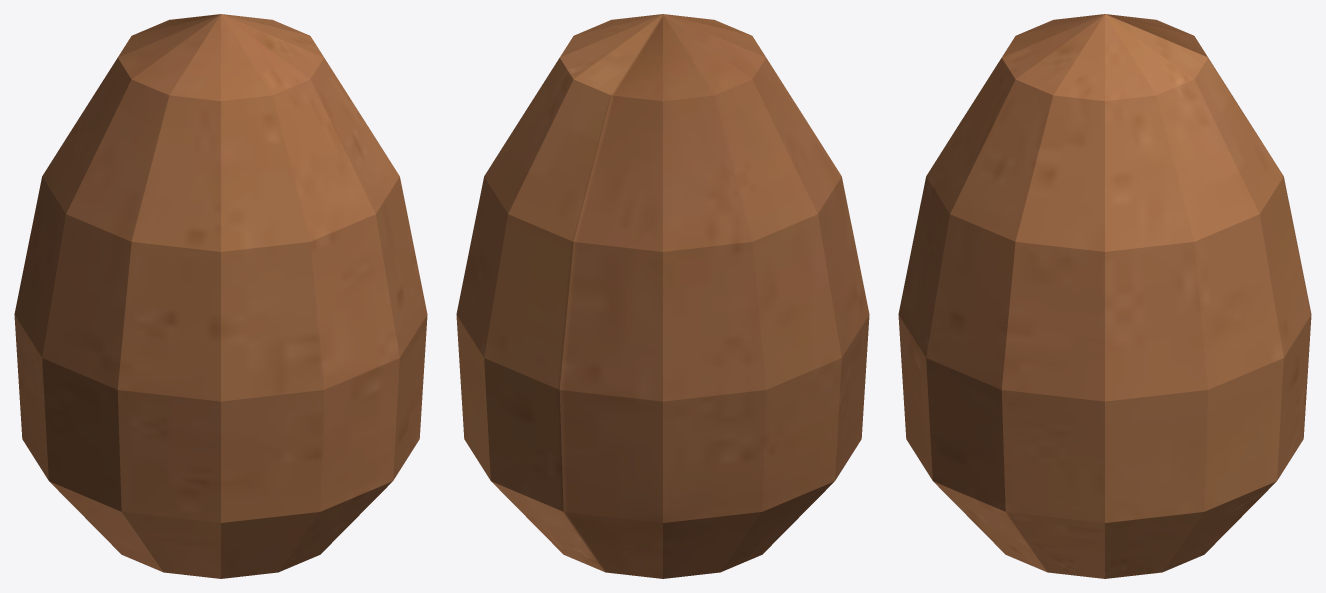
The model's file is TOD_HUEHNEREI01.glb.
The picture shows the model from 3 angles, left to right: view 1: azimuth 30°, elevation 25°; view 2: azimuth 150°, elevation 25°; view 3: azimuth 270°, elevation 25°; orthographic projection.
Visible parts, largest first — view 1: TOD_HUEHNEREI01; view 2: TOD_HUEHNEREI01; view 3: TOD_HUEHNEREI01.
Part boxes in pixels (<box>): TOD_HUEHNEREI01: <box>14,14,427,578</box>; TOD_HUEHNEREI01: <box>456,14,869,578</box>; TOD_HUEHNEREI01: <box>898,14,1311,578</box>.
Bounding box in the file's own units: 0.0972 × 0.1427 × 0.0972.
1 material, 1 textured.
